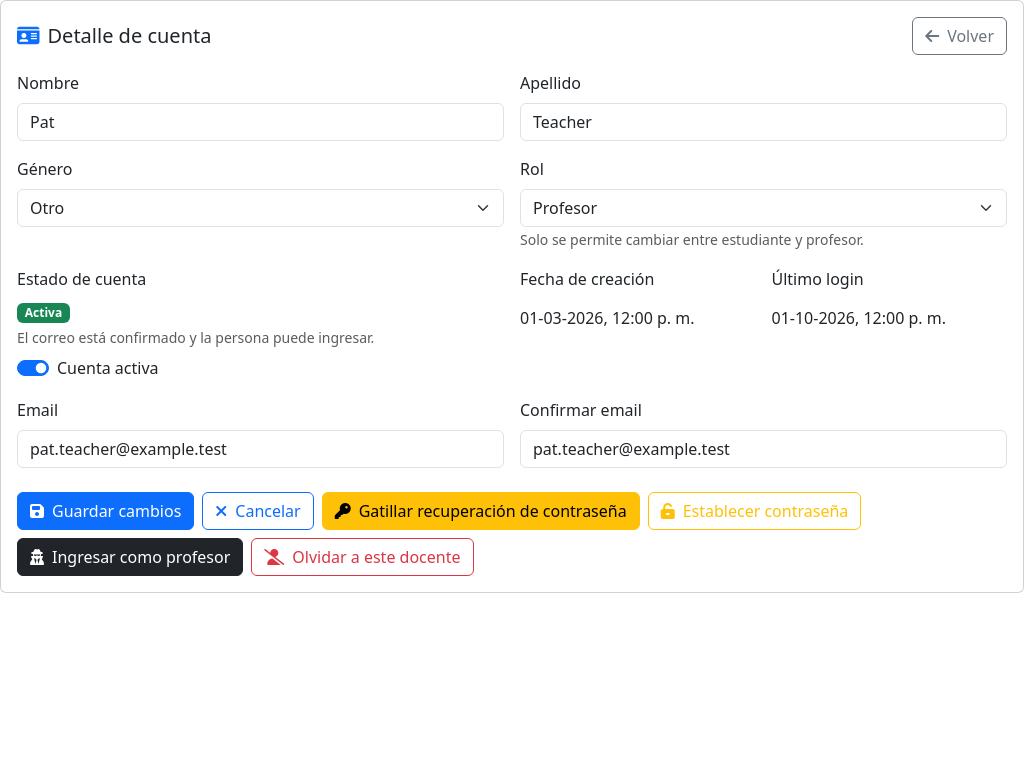
Test: UserShowPage: setting a password (#889) › speaks Spanish to a Spanish-speaking administrator
Click the button "Establecer contraseña".
click(754, 511)  # box top-left (648, 492), bottom-right (861, 530)
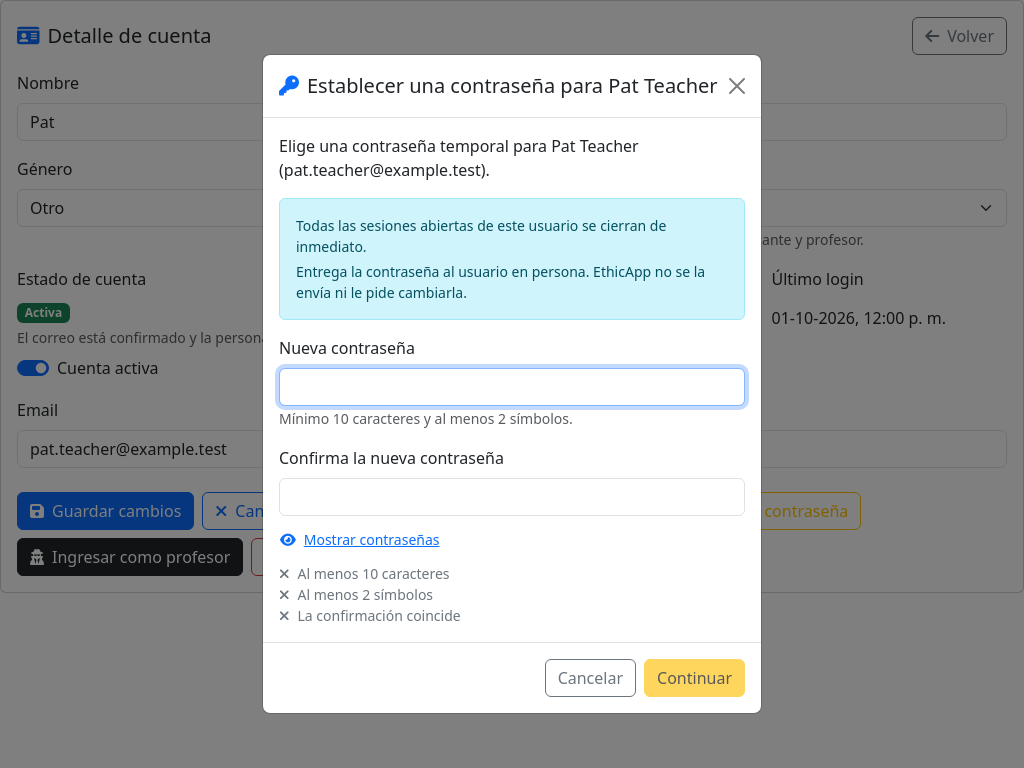
Now the text "Establecer una contraseña para Pat Teacher" is shown, box top-left (279, 71), bottom-right (718, 101)
Now the text "Al menos 10 caracteres" is shown, box top-left (279, 564), bottom-right (450, 583)
Now the text "al menos 2 símbolos" is shown, box top-left (279, 409), bottom-right (573, 428)
